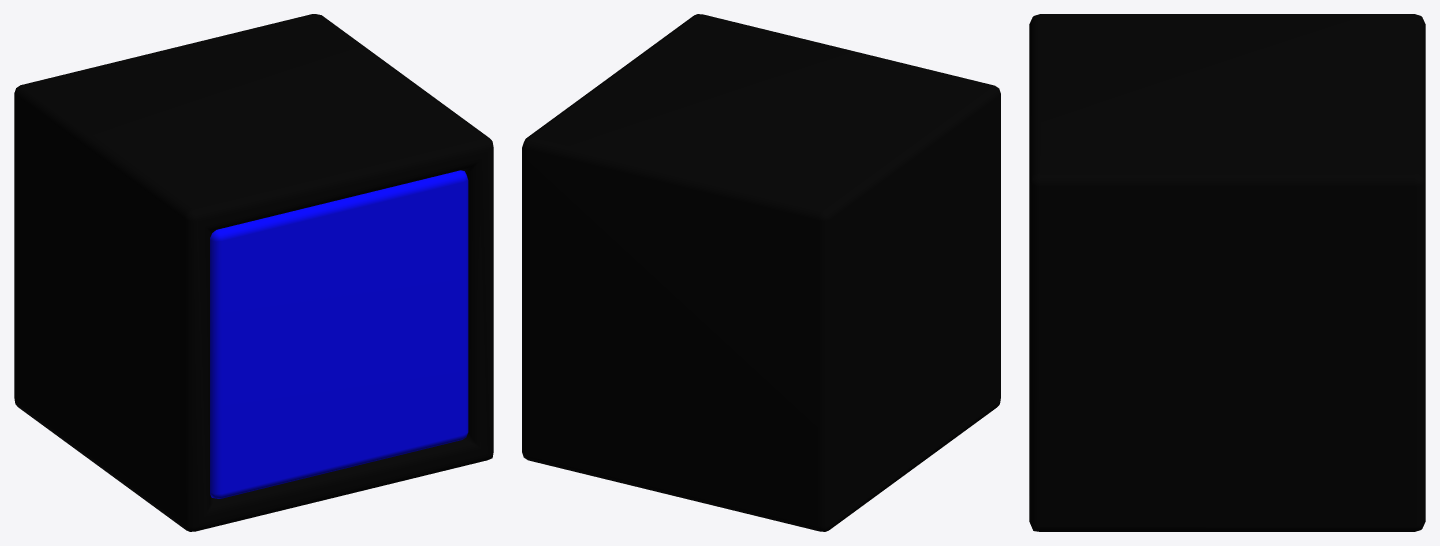
The picture shows the model from 3 angles, left to right: view 1: azimuth 30°, elevation 25°; view 2: azimuth 150°, elevation 25°; view 3: azimuth 270°, elevation 25°; orthographic projection. The views are drawn at different scales.
Visible parts, largest first — view 1: Cube.027; view 2: Cube.027; view 3: Cube.027.
Boxes of the visible parts, x1,y1,x2,y2 form: Cube.027: [14, 14, 493, 531]; Cube.027: [522, 14, 1000, 531]; Cube.027: [1029, 14, 1425, 531].
Size of the model in its own units: 2 by 2 by 2.
